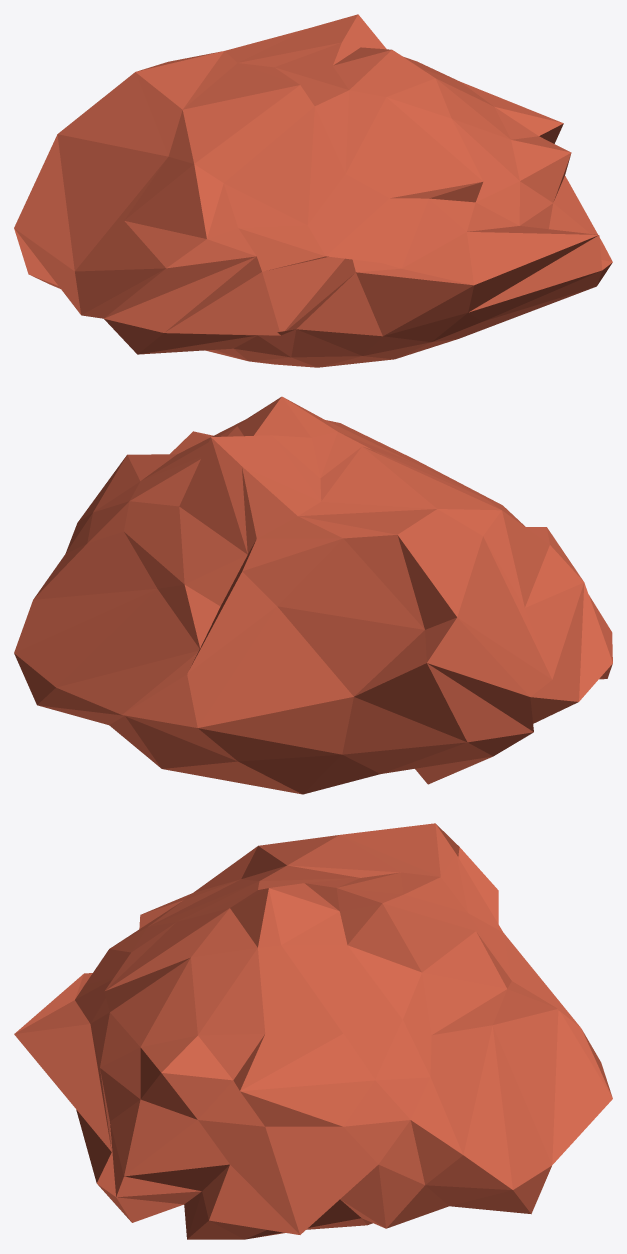
File: Mars_rock_2.dae
3 renders of one model, top to bottom at view 1: azimuth 30°, elevation 25°; view 2: azimuth 150°, elevation 25°; view 3: azimuth 270°, elevation 25°, orthographic. The views are drawn at different scales.
Parts seen in each view (by area): view 1: Icosphere; view 2: Icosphere; view 3: Icosphere.
Part boxes in pixels (box(x1,y1,x2,y2)): Icosphere: box(14, 14, 612, 367); Icosphere: box(14, 396, 612, 794); Icosphere: box(14, 823, 612, 1239).
Size of the model in its own units: 2.15 by 1.97 by 1.18.
